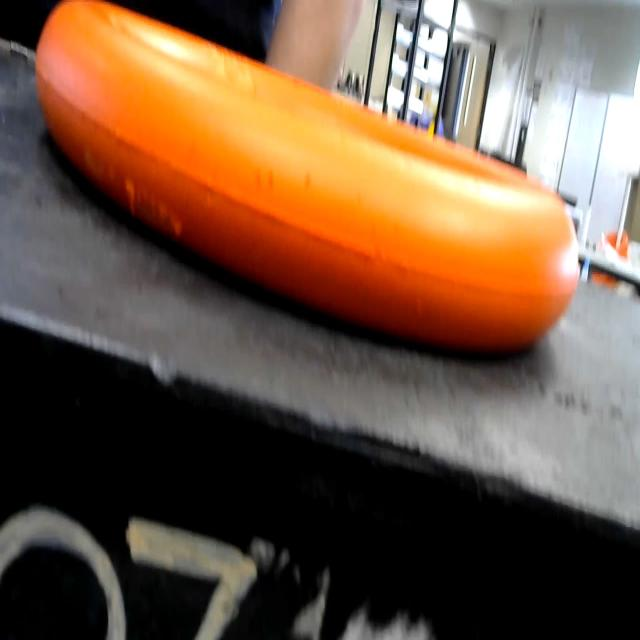note: (28, 0, 600, 378)
